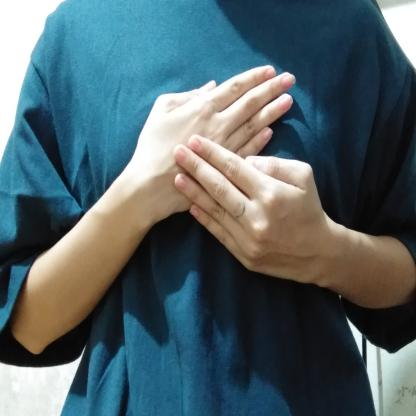thank you: (123, 60, 359, 296)
